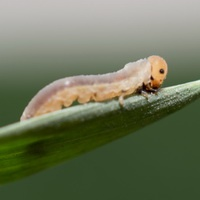insect: (20, 56, 167, 120)
